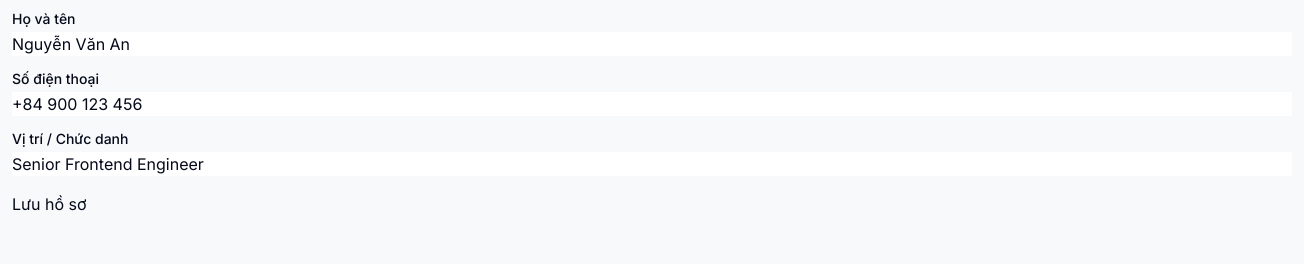
Test: CandidateProfileForm › shows a success message after saving
The image size is (1304, 264).
Expected: the field labelled "Họ và tên" holds "Nguyễn Văn An", [12,32,1292,56]
Step 1. Click the button "Lưu hồ sơ" → (49, 204), box [12,192,86,216]
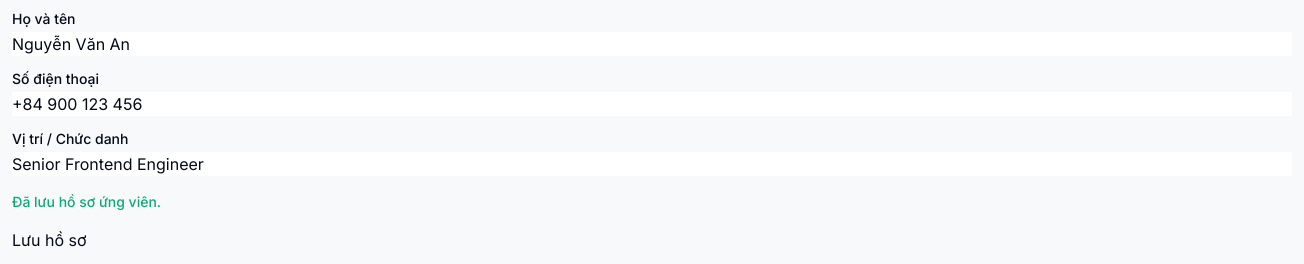
Result: the text "Đã lưu hồ sơ ứng viên." is shown at [12,193,161,210]
